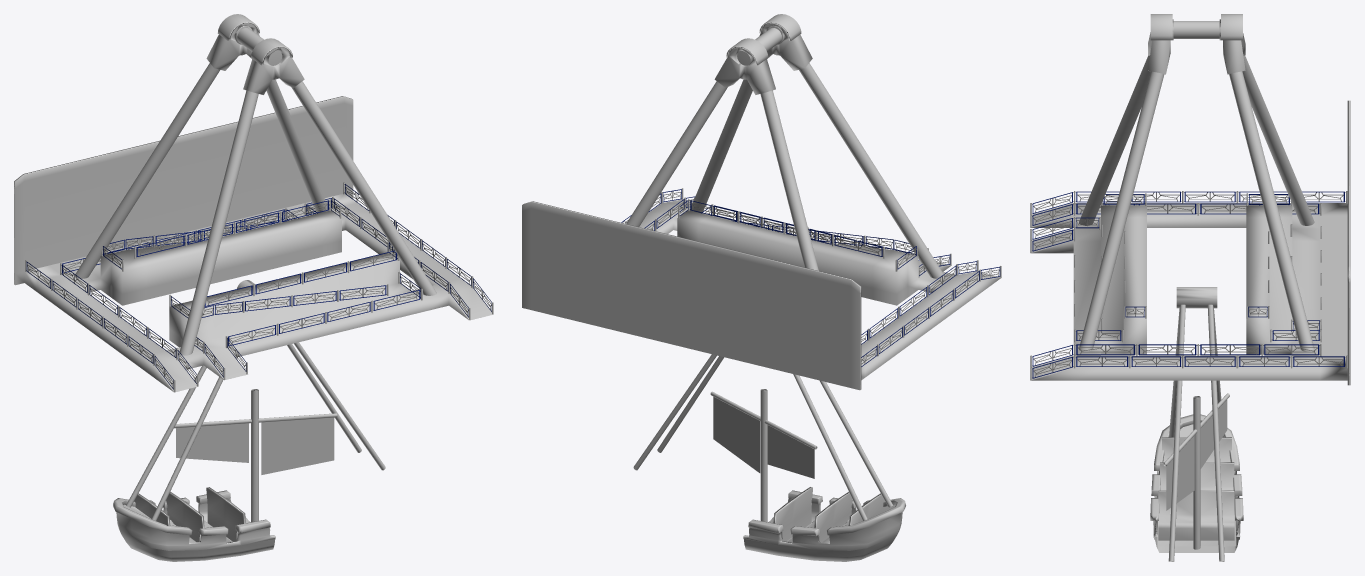
The model's file is schiffschaukel.fbx.
The picture shows the model from 3 angles, left to right: view 1: azimuth 30°, elevation 25°; view 2: azimuth 150°, elevation 25°; view 3: azimuth 270°, elevation 25°; orthographic projection. The views are drawn at different scales.
Parts seen in each view (by area): view 1: plattform, staender, gondel, Mesh; view 2: plattform, staender, gondel, Mesh; view 3: plattform, staender, gondel, Mesh.
Part boxes in pixels (x1,y1,x2,y2): plattform: (14,96,493,392); staender: (75,14,436,355); gondel: (126,280,385,522); Mesh: (113,487,275,561); plattform: (522,188,1001,390); staender: (626,14,944,278); gondel: (633,354,892,522); Mesh: (743,487,905,561); plattform: (1030,100,1350,385); staender: (1079,14,1314,351); gondel: (1163,287,1229,561); Mesh: (1150,414,1243,552).
Size of the model in its own units: 2465 by 3527 by 1907.
